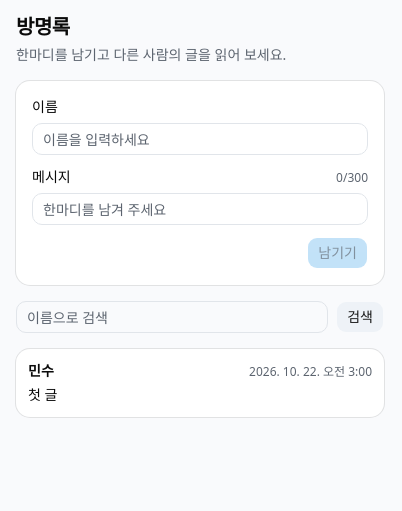
Test: guestbook popup › reloads the list after a new entry is created
Check: the text "첫 글" is shown, box [28,385,57,404]
In the field labelled "이름": (200, 139) [32,123,368,155], type "영희"
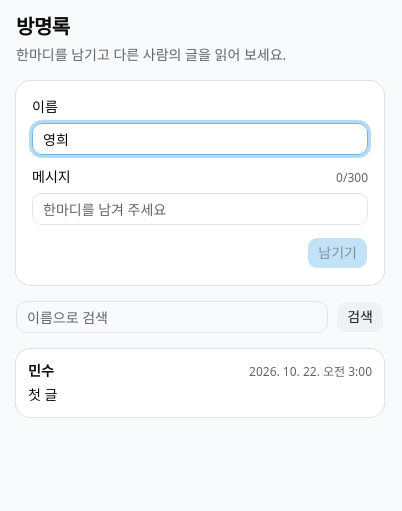
In the field labelled "메시지": (200, 209) [32,193,368,225], type "새 글"
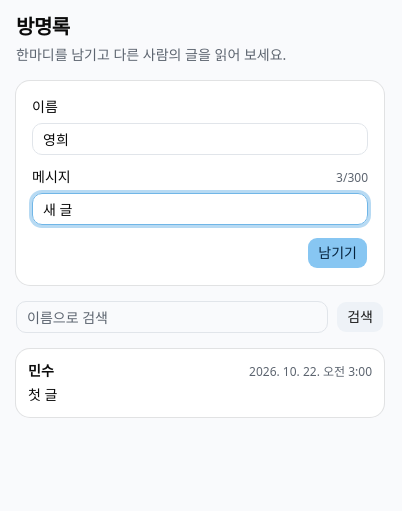
Click the button "남기기": (338, 253) [307,237,368,269]
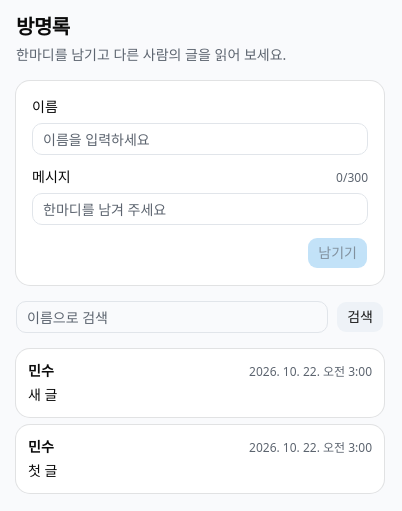
Check: the text "새 글" is shown, box [28,385,57,404]
